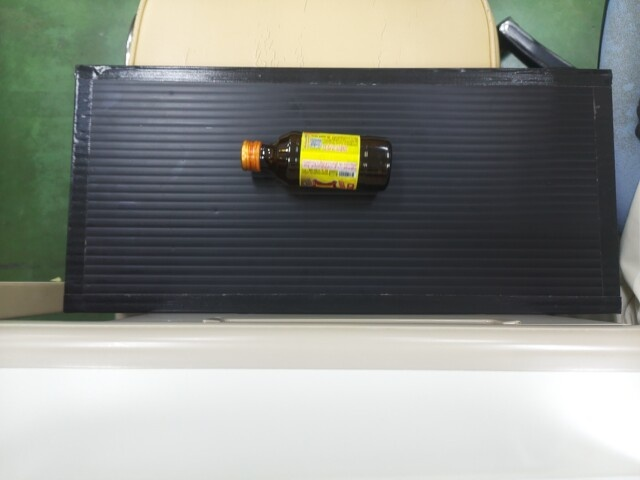glass_bottle: (236, 127, 392, 194)
